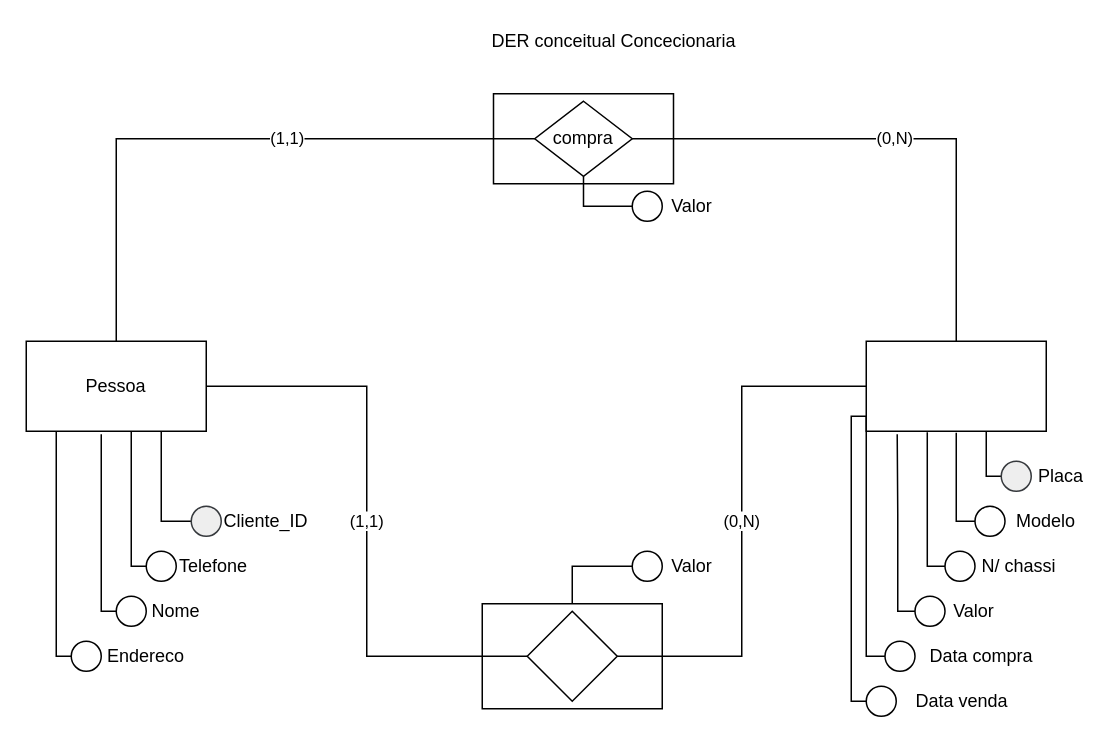
The diagram is 1118 pixels wide and 743 high, and some of its shapes have lost their labels. Here are the shapes that lost their labels. From the top down, the centre of each, then its label:
At point 955,385: "Veículos".
At point 571,655: "venda".
